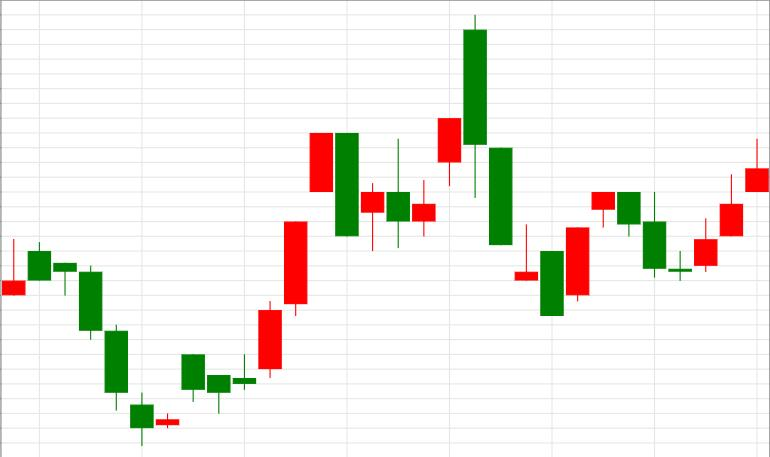bearish_engulfing_fall: (259, 132, 358, 377)
morning_star_rise: (592, 193, 717, 280)
three_white_soldiers_rise: (618, 138, 770, 280)
